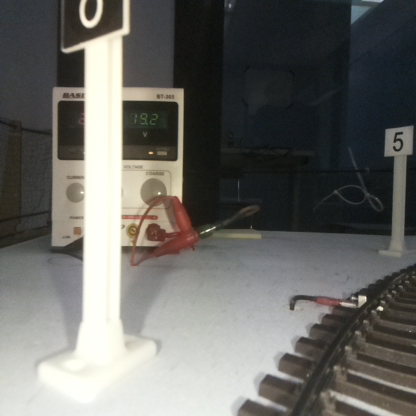white-info-5: (385, 129, 412, 253)
